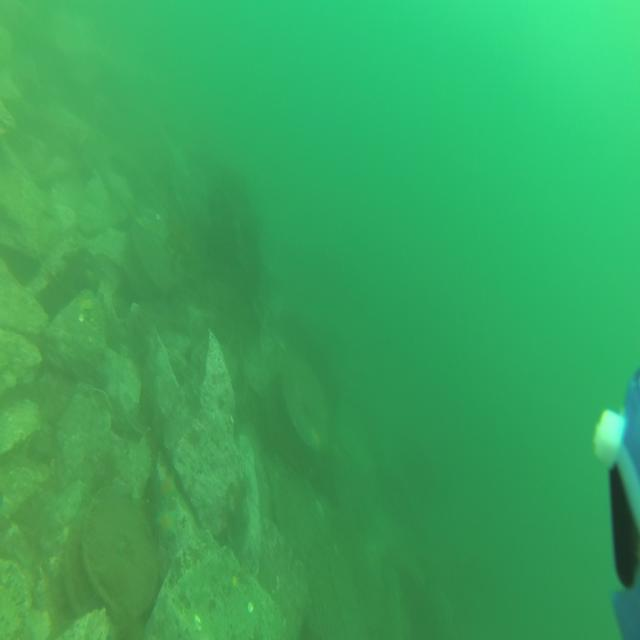starfish: (151, 503, 179, 545), (154, 471, 179, 505), (304, 425, 324, 453), (78, 296, 94, 315)
